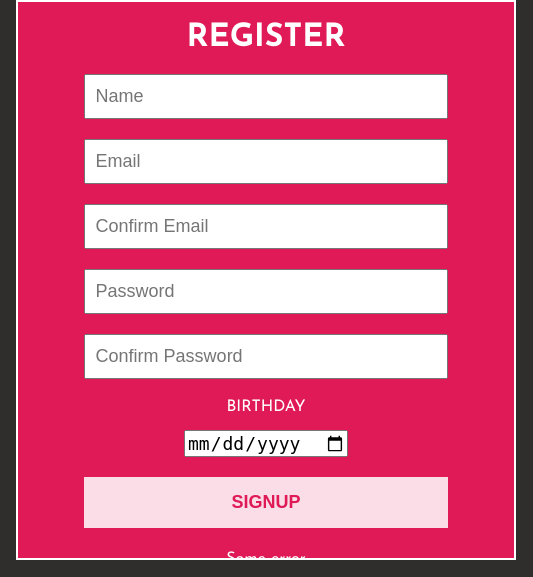
Test: Register container tests › Form errors and interactions › should throw errors in name field
The image size is (533, 577).
In the field with placeholder "Name": (266, 96) [84, 74, 448, 119], type "T"
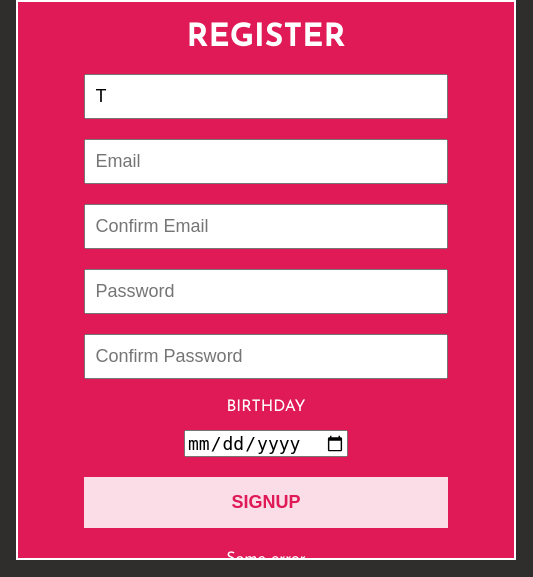
Click the button: (266, 502) [84, 477, 448, 528]
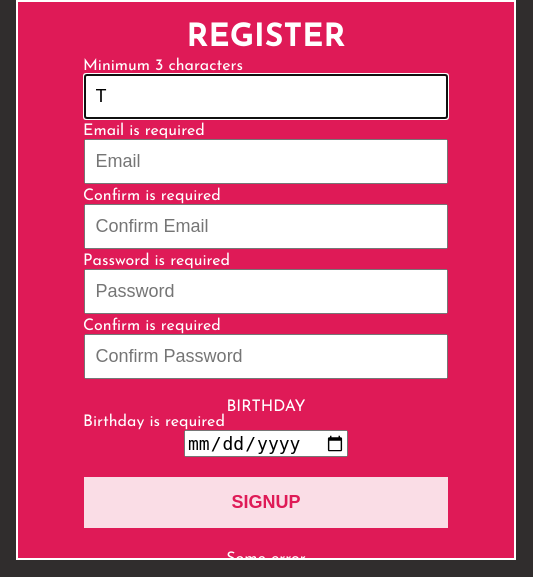
expect the text "Minimum 3 characters" is shown: met, box [83, 58, 243, 74]
